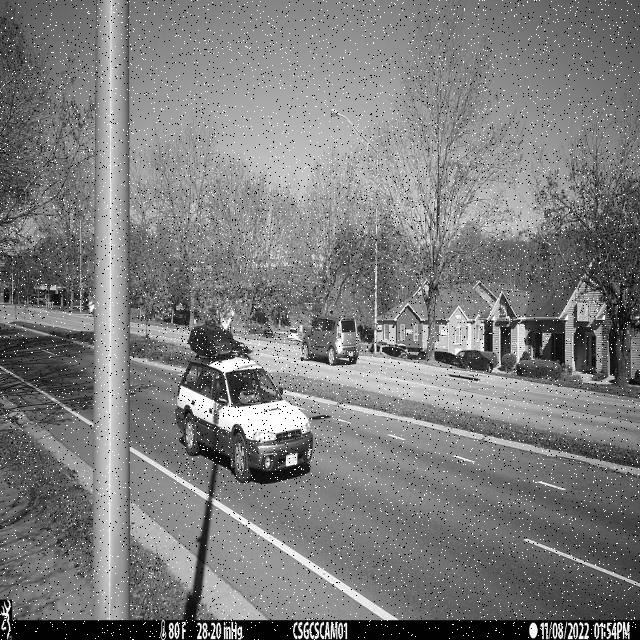SUV: (174, 326, 314, 484)
